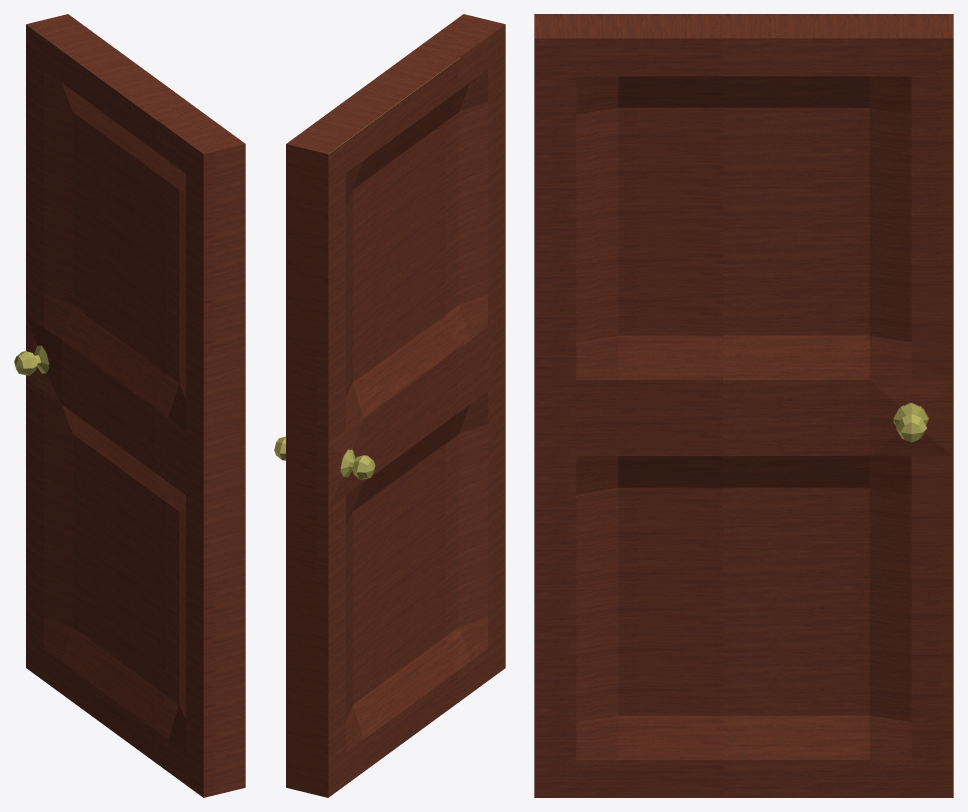
File: door.obj
3 views of the same model, side by side, from view 1: azimuth 30°, elevation 25°; view 2: azimuth 150°, elevation 25°; view 3: azimuth 270°, elevation 25° (orthographic). The views are drawn at different scales.
Parts seen in each view (by area): view 1: Cube; view 2: Cube; view 3: Cube.
Part boxes in pixels (x1=…): Cube: x1=14, y1=14, x2=245, y2=797; Cube: x1=274, y1=14, x2=505, y2=797; Cube: x1=534, y1=14, x2=953, y2=797.
Size of the model in its own units: 0.6361 by 4 by 2.
Materials: 1 (1 with a texture image).
